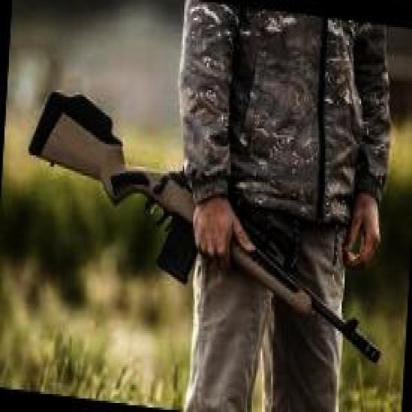Gun: (9, 78, 398, 376)
